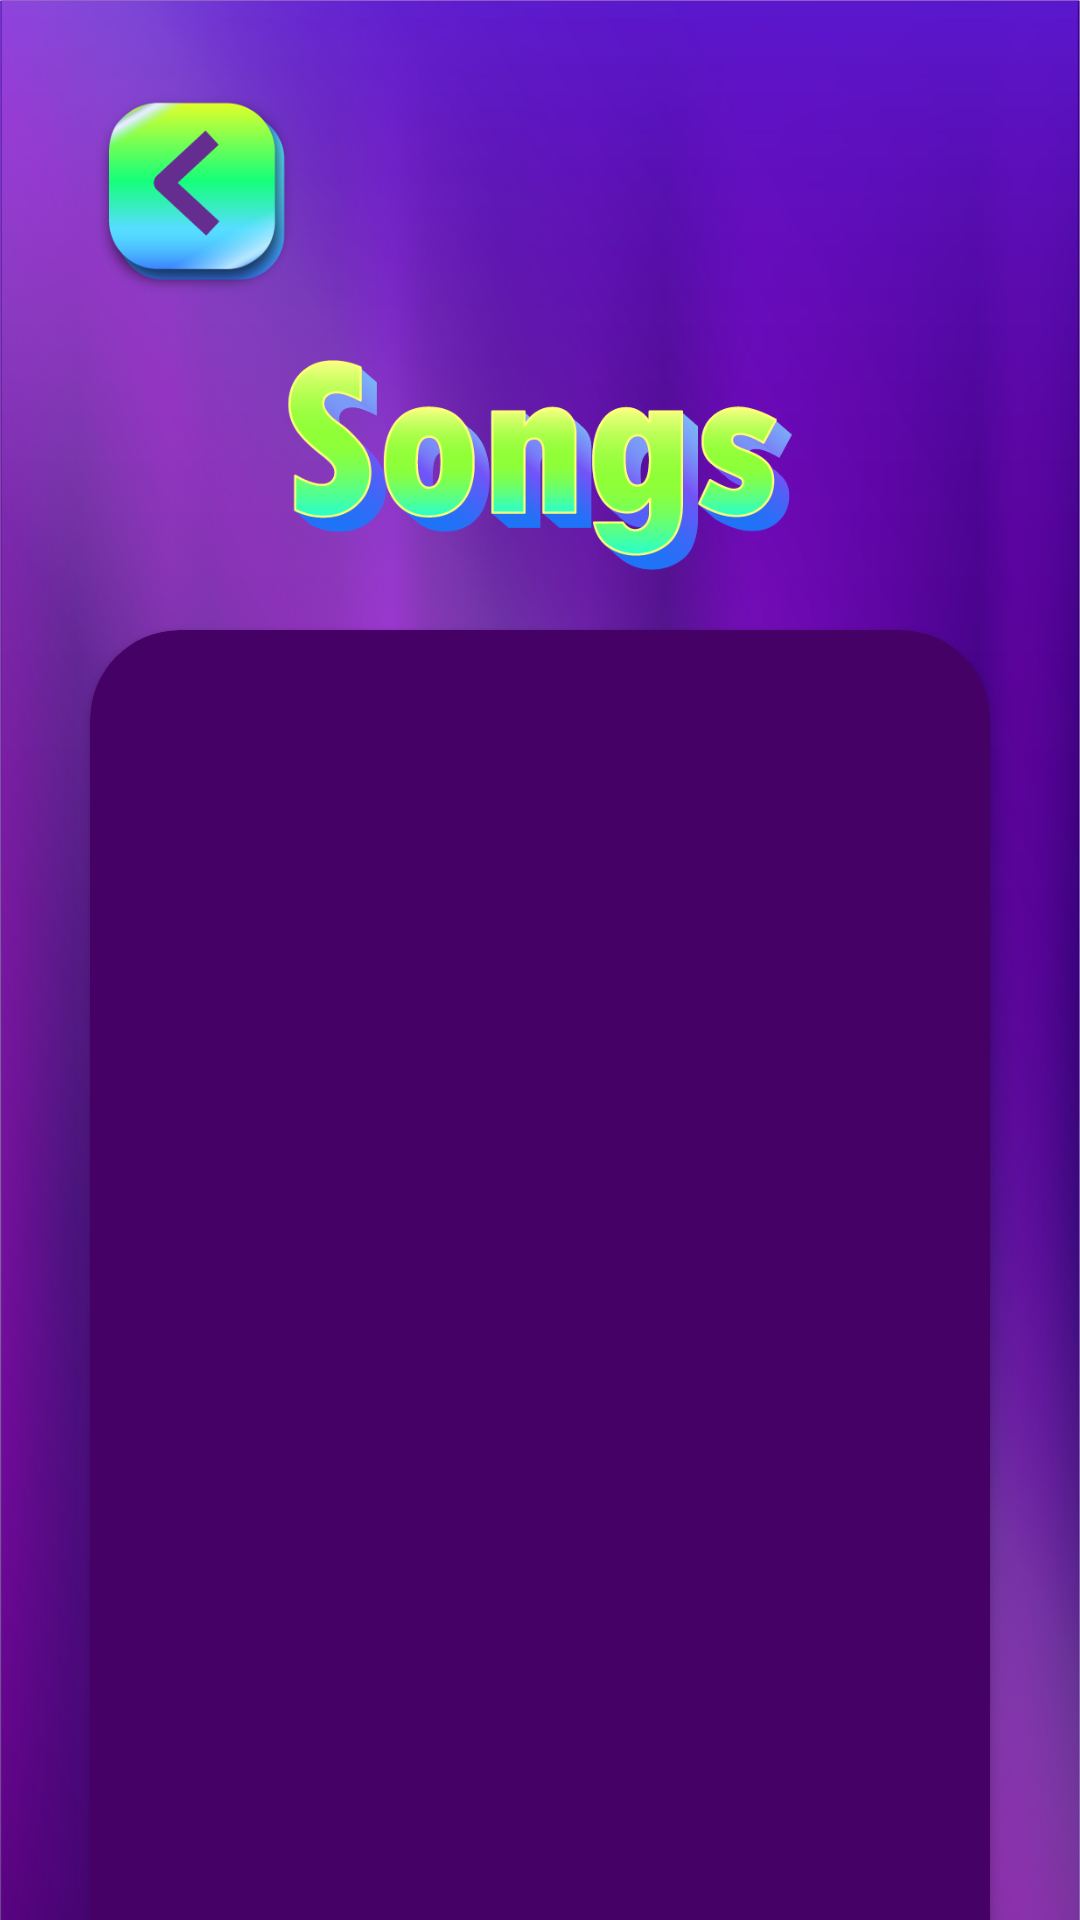

Icon bounding boxes for this 1080w x 1920h phone screenshot, format (x1, y1, x2, y2):
backbutton: (106, 90, 300, 287)
